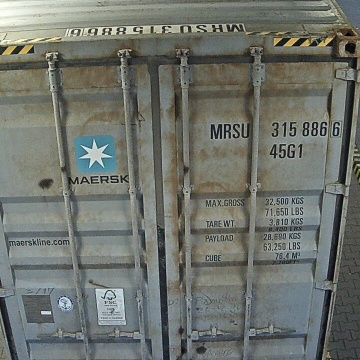serial_id: (211, 120, 342, 138)
